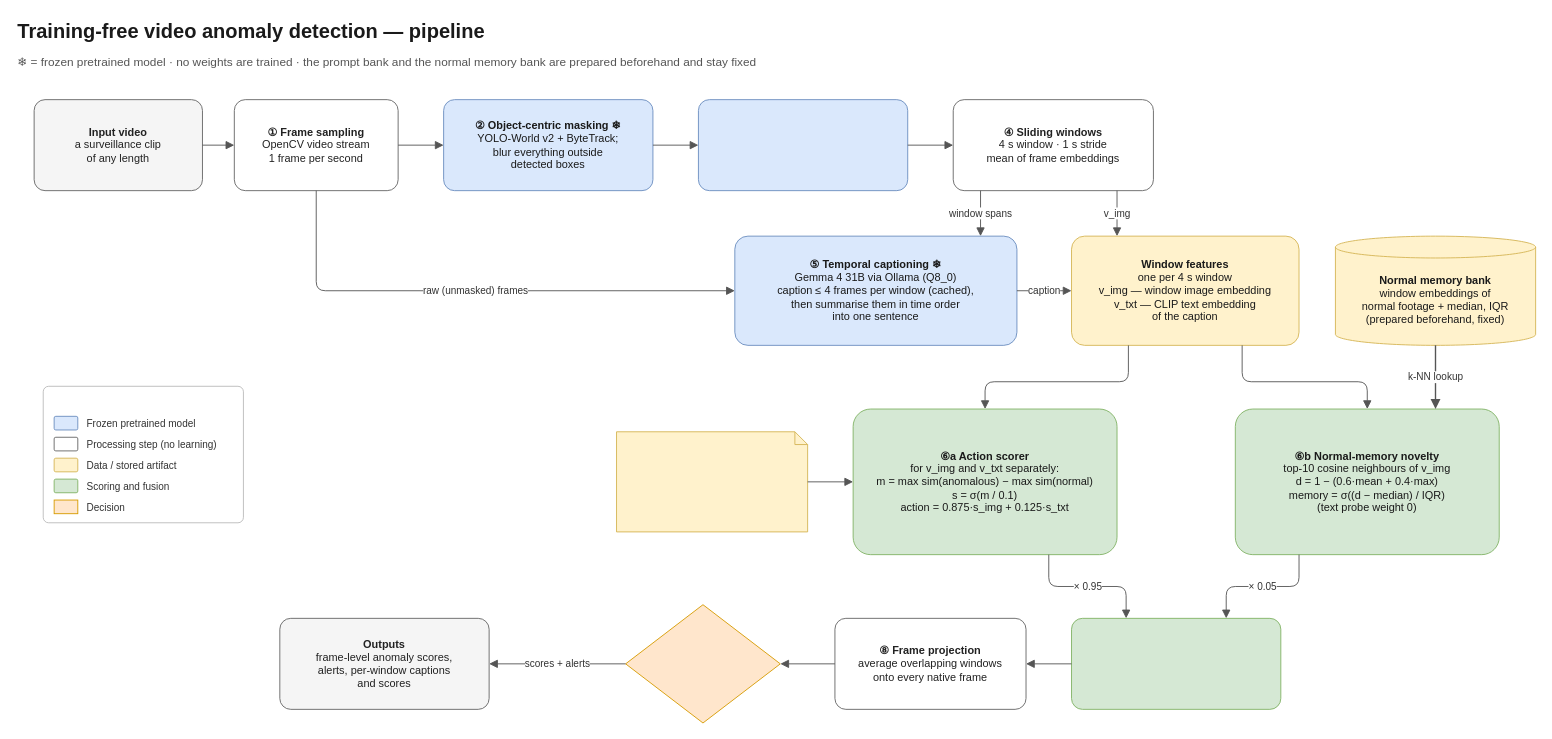
This 1552x739 diagram has some shape labels left out. Here are the shapes that lost their labels. From the top down, the box of each, then its label:
(698, 99, 908, 191): ③ CLIP image encoder ❄ ViT-L/14 at full + 0.5× scale, averaged and L2-normalised
(42, 385, 243, 523): Legend
(616, 431, 808, 532): Action prompt bank 26 normal · 26 anomalous phrases, CLIP text-encoded once
(625, 604, 780, 723): ⑨ Alert? score > 0.5935
(1071, 617, 1281, 709): ⑦ Fusion 0.95·action + 0.05·memory → window score
